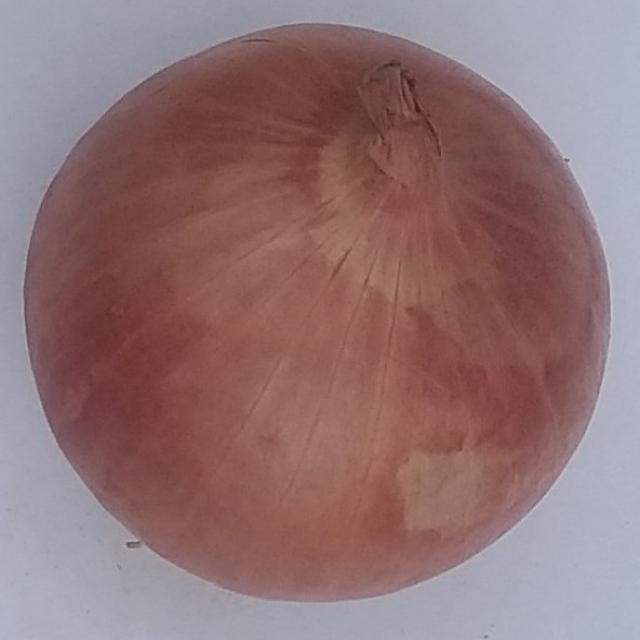onion: (18, 18, 613, 608)
